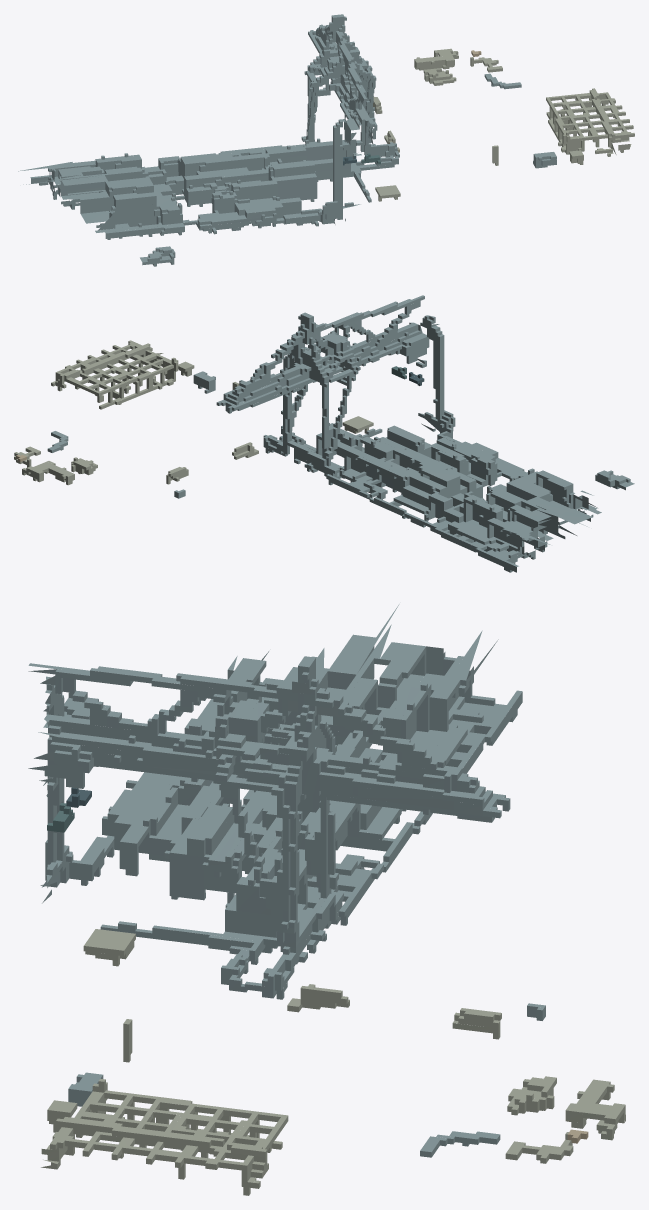
3 views of the same model, one above another, from view 1: azimuth 30°, elevation 25°; view 2: azimuth 150°, elevation 25°; view 3: azimuth 270°, elevation 25° (orthographic). The views are drawn at different scales.
Parts seen in each view (by area): view 1: measured-industrial; view 2: measured-industrial; view 3: measured-industrial.
Boxes of the visible parts, x1=… form: measured-industrial: x1=18, y1=14, x2=634, y2=266; measured-industrial: x1=14, y1=295, x2=634, y2=572; measured-industrial: x1=28, y1=604, x2=625, y2=1195.
Size of the model in its own units: 213 by 54.09 by 101.
